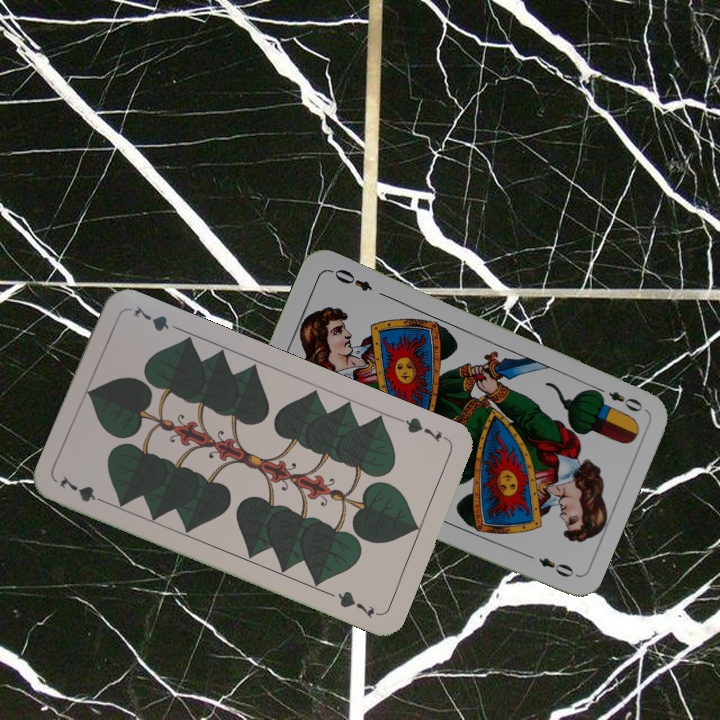EO: (589, 382, 646, 415)
G7: (55, 471, 112, 507), (395, 413, 451, 445)
